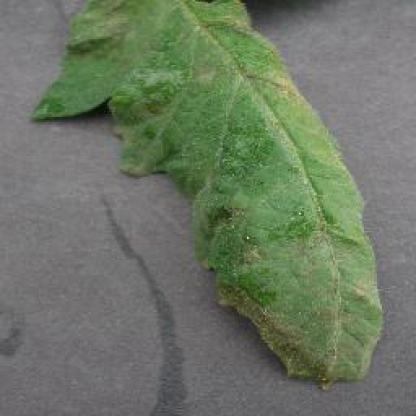bad leaf: (27, 0, 396, 387)
